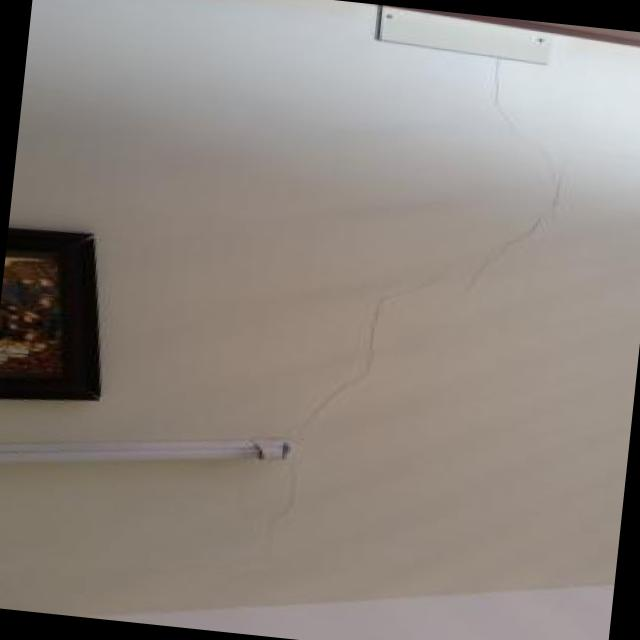crack: (284, 282, 434, 438), (458, 215, 552, 325), (256, 459, 305, 558)
